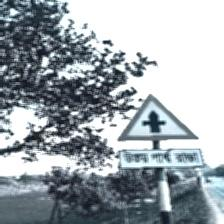Crossroad: (116, 93, 201, 163)
